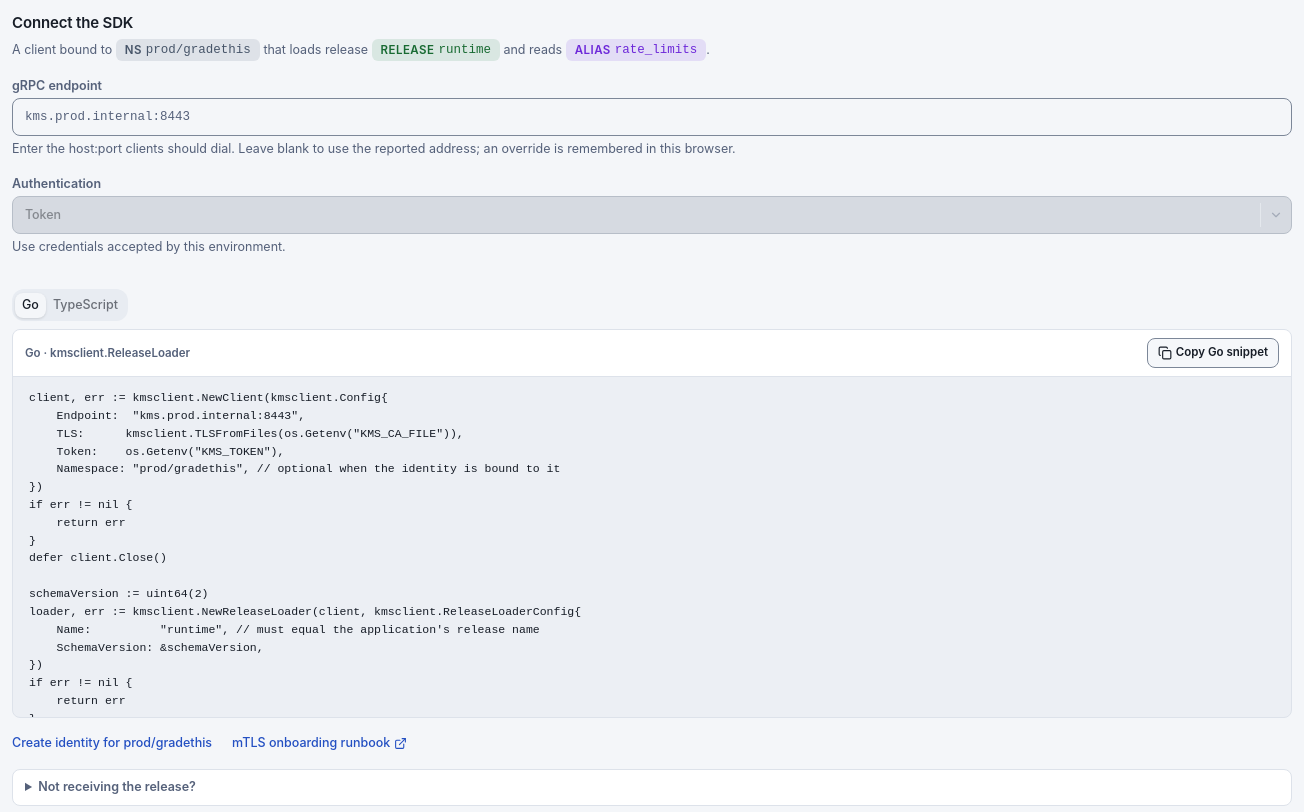
Test case: ConnectSdkPanel › uses a token with server-authenticated TLS in both languages for token-only environments
Click the tab "TypeScript" at x=85, y=305, box [46, 293, 125, 318]
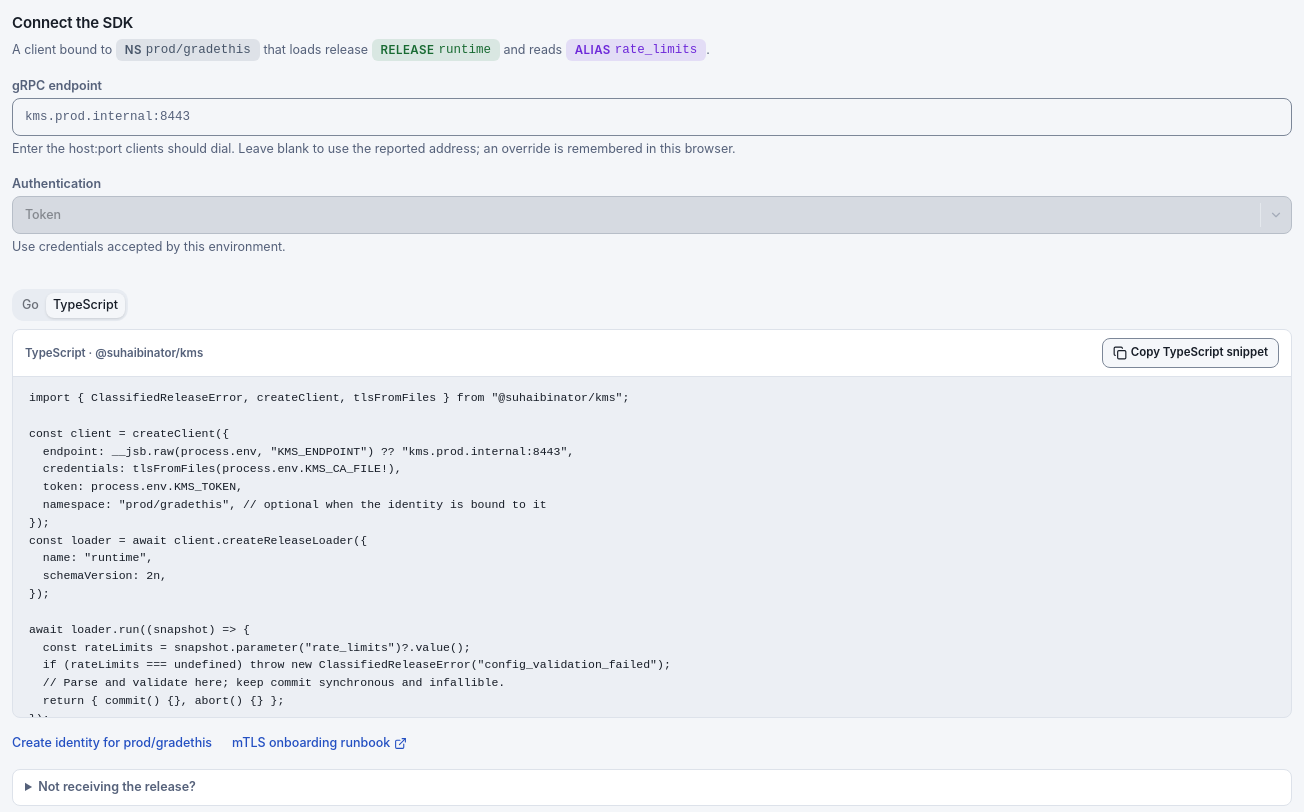
expect the text "credentials: tlsFromFiles(process.env.KMS_CA_FILE!)" is shown: met, box [29, 391, 671, 717]
expect the text "token: process.env.KMS_TOKEN" is shown: met, box [29, 391, 671, 717]
